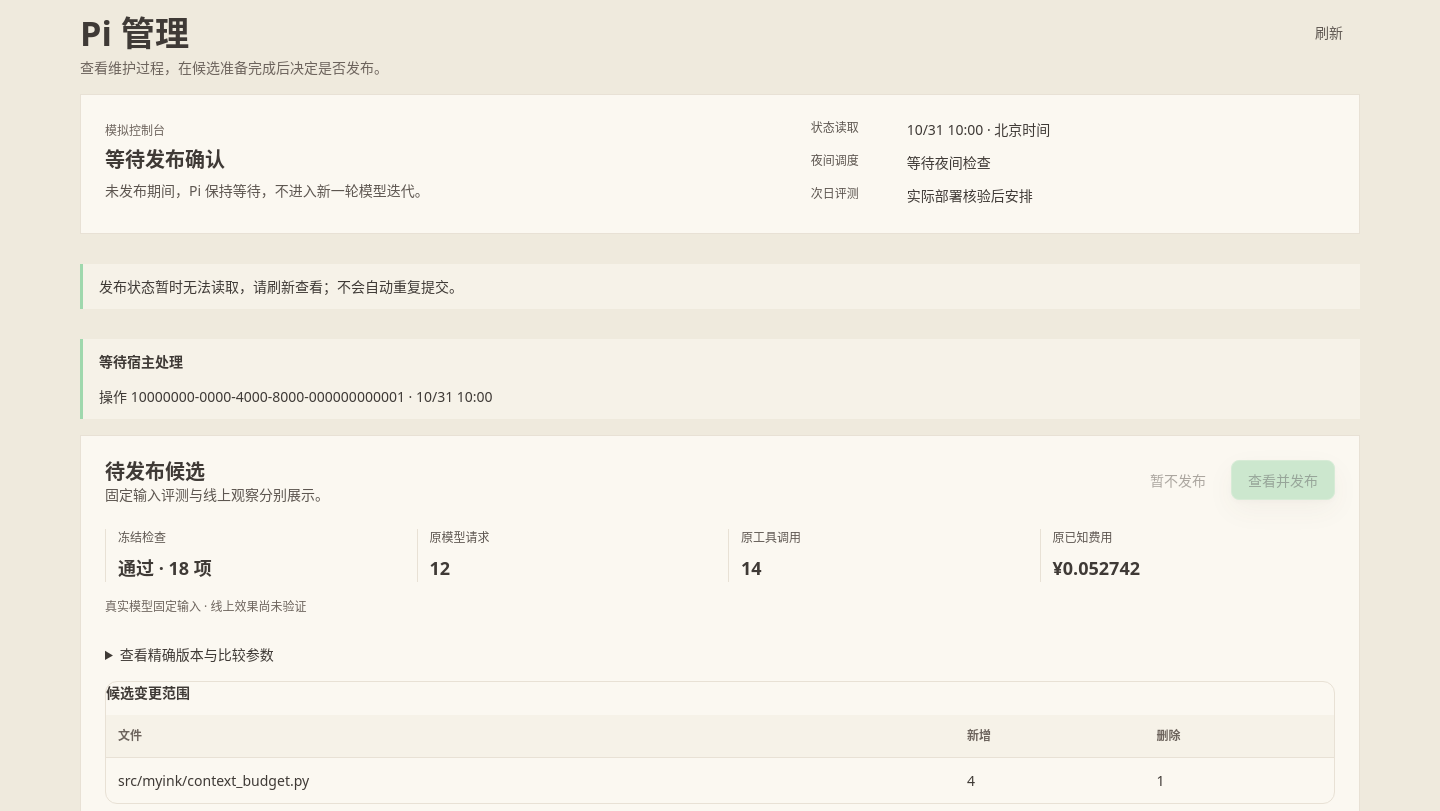
Scenario: refreshes a queued operation after polling fails without submitting it again
Expected: the text "发布状态暂时无法读取，请刷新查看；不会自动重复提交。" is shown, [80,264,1360,309]
Click the button with aria-label "刷新 Pi 状态" at [1329, 32], box [1298,12,1360,52]
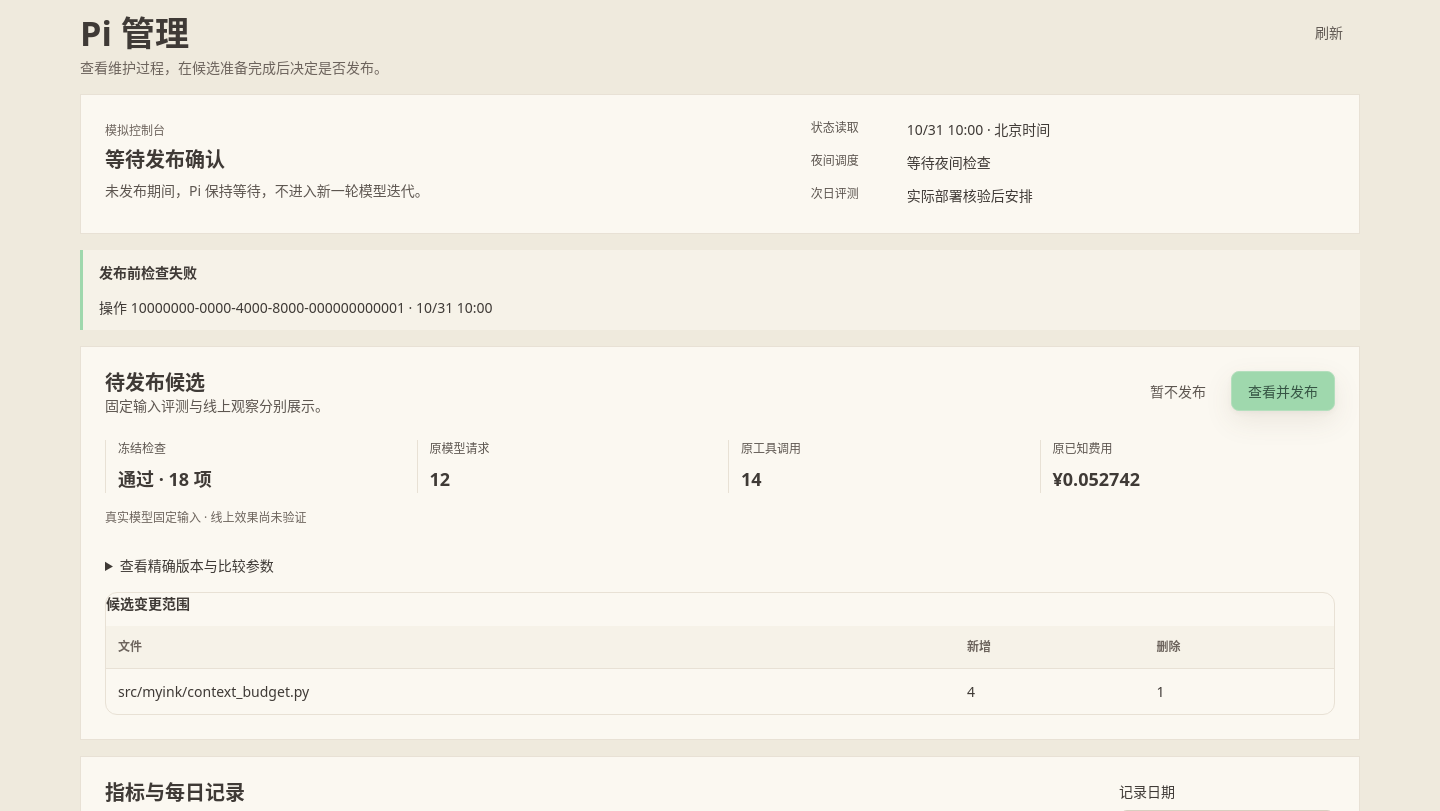
Expected: the text "发布前检查失败" is shown, [99,263,197,282]
